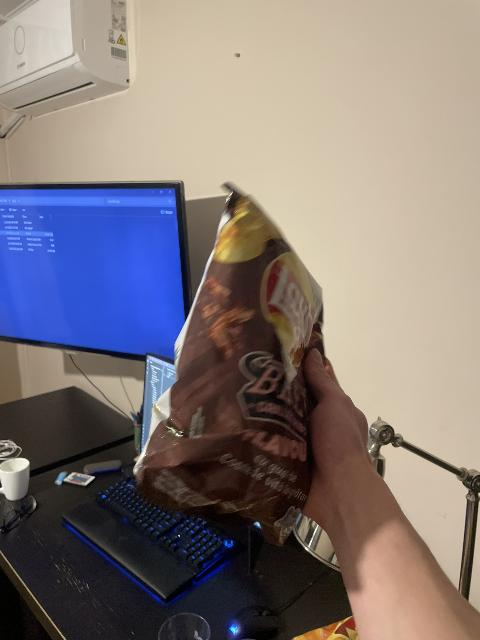Lays Beef Grilled Ribs 125g: (135, 191, 335, 541)
